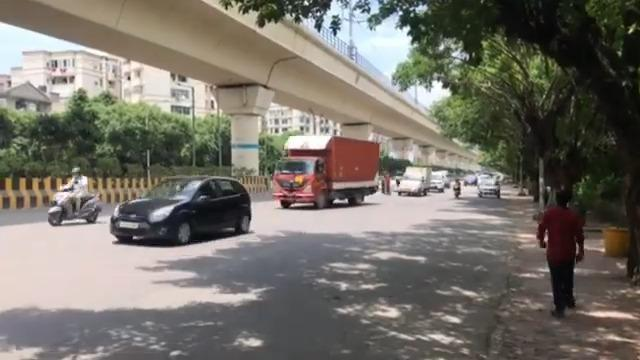Bike: (47, 166, 102, 226)
Truck: (270, 133, 381, 209), (397, 166, 431, 196)
